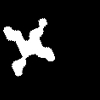single_crochet: (3, 18, 54, 75)
